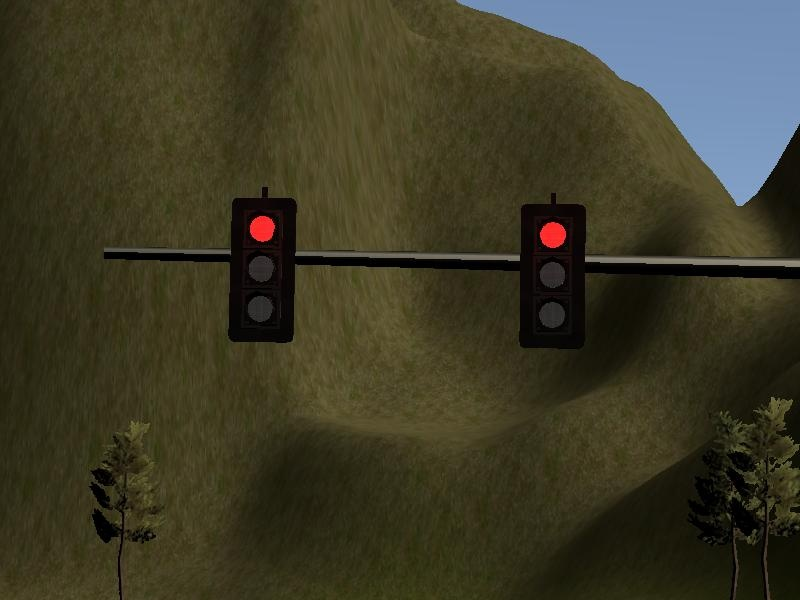RED: (229, 199, 292, 343), (522, 201, 585, 345)
